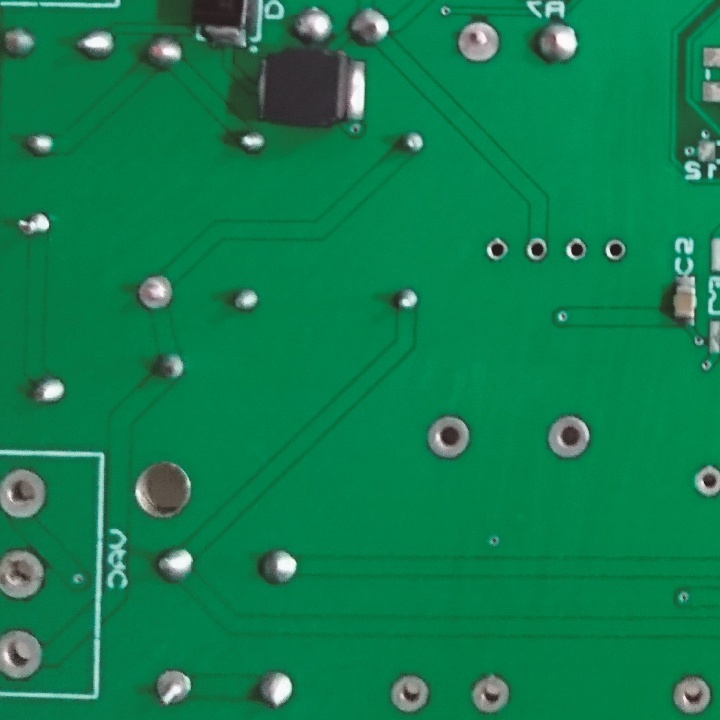F: (1, 546, 52, 605), (1, 465, 52, 522), (453, 15, 506, 68), (1, 626, 47, 686), (424, 409, 473, 463), (544, 412, 596, 462), (466, 670, 513, 715), (666, 674, 714, 718), (388, 670, 433, 716), (155, 669, 196, 708), (134, 274, 176, 312), (689, 460, 720, 500), (565, 232, 589, 264), (482, 236, 508, 264), (602, 235, 628, 263), (524, 238, 547, 264)
